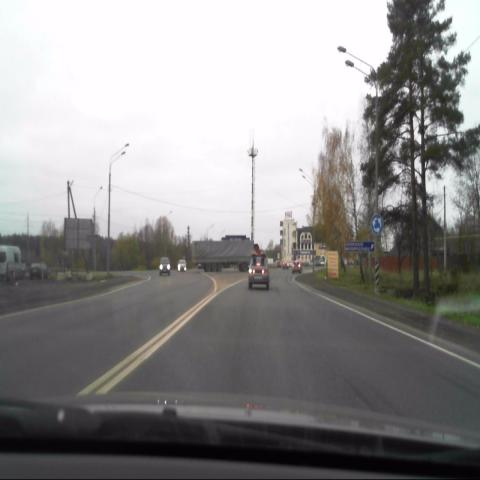4_3: (370, 213, 385, 236)
